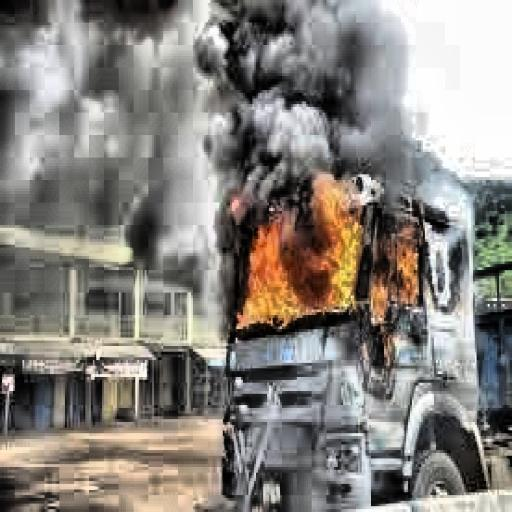fire: (217, 169, 365, 326), (366, 205, 428, 315)
